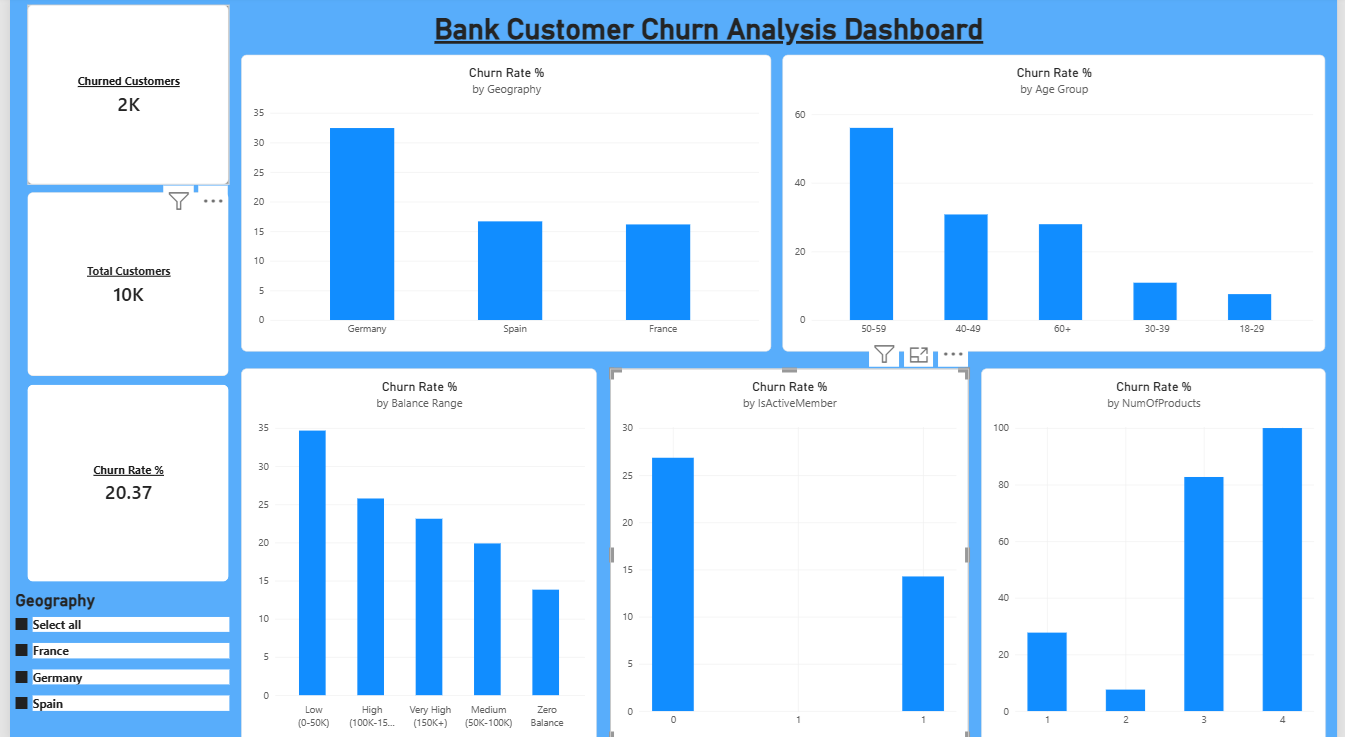

The dashboard page shown, as its layout file describes it:
{"tool":"powerbi","page":{"name":"Page 1","canvas":[1920,1080],"ordinal":0},"visuals":[{"type":"cardVisual","fields":{"Data":["churn_db customers.Total Customers"]},"box":[25,285,291.7,266.7],"z":0},{"type":"cardVisual","fields":{"Data":["churn_db customers.Churned Customers"]},"box":[25,13.3,291.7,260],"z":1},{"type":"cardVisual","fields":{"Data":["churn_db customers.Churn Rate %"]},"box":[25,563.3,291.7,285],"z":2},{"type":"clusteredColumnChart","fields":{"Category":["churn_db customers.Geography"],"Y":["churn_db customers.Churn Rate %"]},"box":[335.7,85.4,766.9,429.2],"z":3},{"type":"clusteredColumnChart","fields":{"Category":["churn_db customers.Age Group"],"Y":["churn_db customers.Churn Rate %"]},"box":[1118.9,85.4,785.3,429.2],"z":4},{"type":"clusteredColumnChart","fields":{"Y":["churn_db customers.Churn Rate %"],"Category":["churn_db customers.NumOfProducts"]},"box":[1405.7,539.1,498.4,541.1],"z":5},{"type":"clusteredColumnChart","fields":{"Y":["churn_db customers.Churn Rate %"],"Category":["churn_db customers.IsActiveMember"]},"box":[868.7,539.1,518.8,541.1],"z":6},{"type":"clusteredColumnChart","fields":{"Category":["churn_db customers.Balance Range"],"Y":["churn_db customers.Churn Rate %"]},"box":[335.7,539.1,514.7,541.1],"z":7},{"type":"textbox","title":"     Bank Customer Churn Analysis Dashboard","box":[600.1,24.4,821.9,61],"z":8},{"type":"slicer","fields":{"Values":["churn_db customers.Geography"]},"box":[0,860.5,317.4,219.7],"z":9}]}

Visuals, with their boxes in screenshot pixels (x1, y1, x2, y2), scaled from the page's 1920x1080 canvas onto the 1345x737 screenshot:
cardVisual - churn_db customers.Total Customers: {"x1": 18, "y1": 194, "x2": 222, "y2": 376}
cardVisual - churn_db customers.Churned Customers: {"x1": 18, "y1": 9, "x2": 222, "y2": 187}
cardVisual - churn_db customers.Churn Rate %: {"x1": 18, "y1": 384, "x2": 222, "y2": 579}
clusteredColumnChart - churn_db customers.Geography x churn_db customers.Churn Rate %: {"x1": 235, "y1": 58, "x2": 772, "y2": 351}
clusteredColumnChart - churn_db customers.Age Group x churn_db customers.Churn Rate %: {"x1": 784, "y1": 58, "x2": 1334, "y2": 351}
clusteredColumnChart - churn_db customers.Churn Rate % x churn_db customers.NumOfProducts: {"x1": 985, "y1": 368, "x2": 1334, "y2": 736}
clusteredColumnChart - churn_db customers.Churn Rate % x churn_db customers.IsActiveMember: {"x1": 609, "y1": 368, "x2": 972, "y2": 736}
clusteredColumnChart - churn_db customers.Balance Range x churn_db customers.Churn Rate %: {"x1": 235, "y1": 368, "x2": 596, "y2": 736}
"     Bank Customer Churn Analysis Dashboard" textbox: {"x1": 420, "y1": 17, "x2": 996, "y2": 58}
slicer - churn_db customers.Geography: {"x1": 0, "y1": 587, "x2": 222, "y2": 736}
